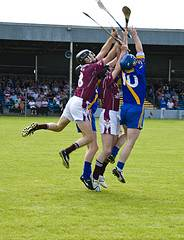hurley: (95, 1, 133, 36), (121, 2, 132, 30)
